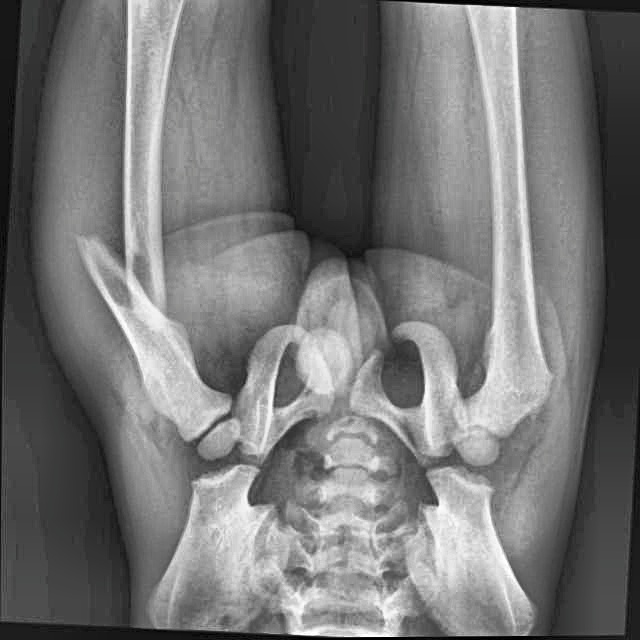Oblique: (72, 211, 186, 346)
